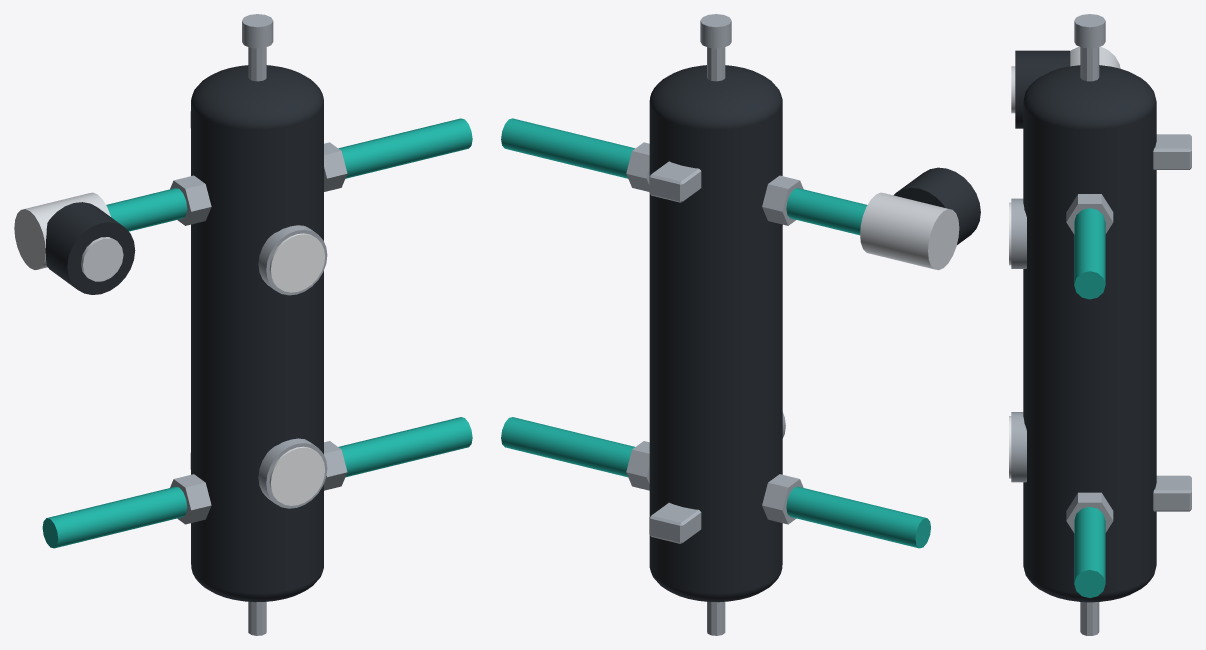
File: hydraulic-separator.glb
3 views of the same model, side by side, from view 1: azimuth 30°, elevation 25°; view 2: azimuth 150°, elevation 25°; view 3: azimuth 270°, elevation 25° (orthographic).
Parts seen in each view (by area): view 1: hydraulic-separator; view 2: hydraulic-separator; view 3: hydraulic-separator.
Part boxes in pixels (bbox=[...]): hydraulic-separator: bbox=[14, 14, 472, 635]; hydraulic-separator: bbox=[501, 14, 980, 635]; hydraulic-separator: bbox=[1009, 14, 1191, 635].
Size of the model in its own units: 0.64 by 0.86 by 0.233.
